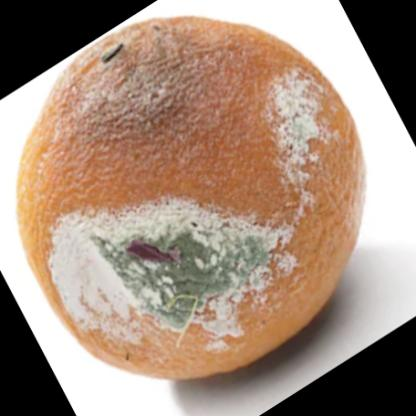rotten: (19, 19, 364, 382)
